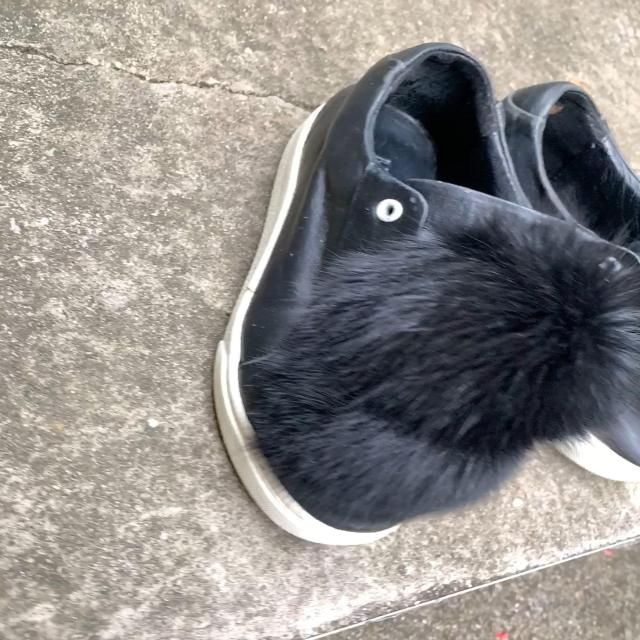shoe: (217, 47, 524, 549)
